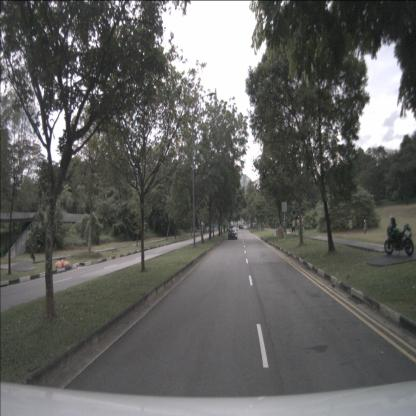vehicle-car: (228, 226, 237, 240)
vehicle-motorcycle: (384, 213, 414, 258)
